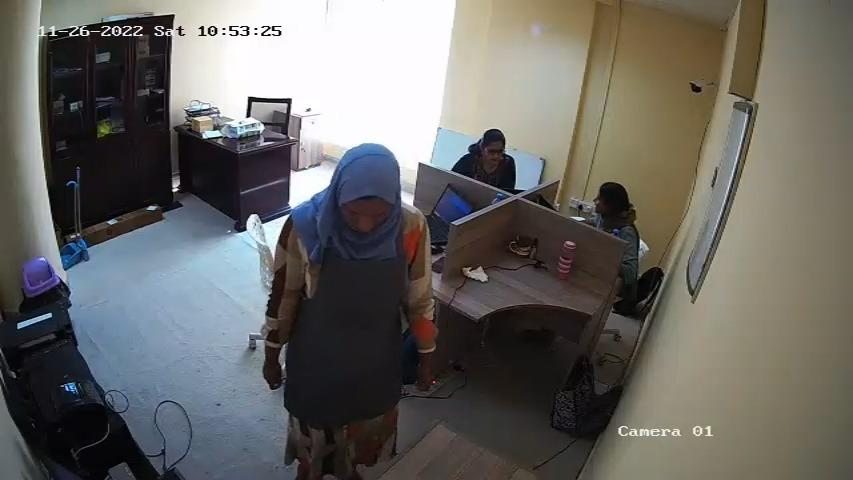apron: (285, 235, 415, 407)
